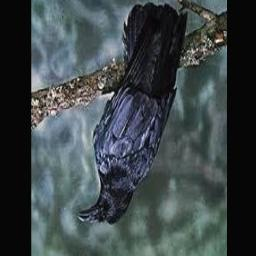Crow: (78, 2, 188, 226)
